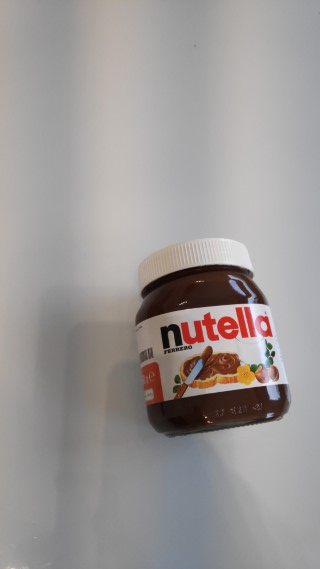nutella: (131, 235, 294, 440)
